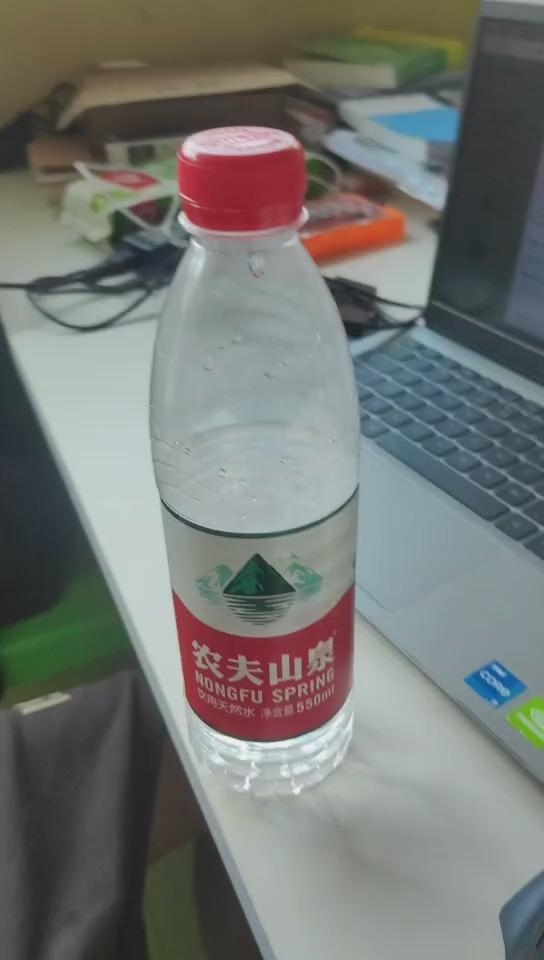BIODEGRADABLE: (156, 123, 376, 815)
